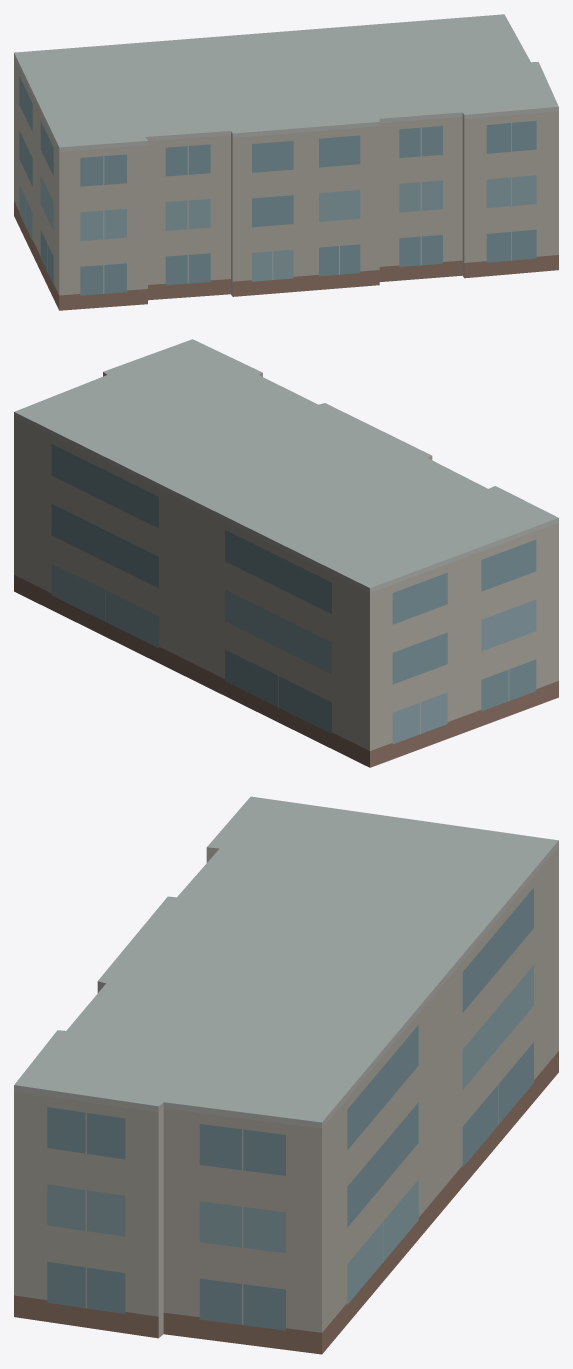
The model's file is survey-upis-32668369.glb.
3 views of the same model, one above another, from view 1: azimuth 30°, elevation 25°; view 2: azimuth 150°, elevation 25°; view 3: azimuth 270°, elevation 25° (orthographic). The views are drawn at different scales.
Parts seen in each view (by area): view 1: survey-upis-32668369.tmp; view 2: survey-upis-32668369.tmp; view 3: survey-upis-32668369.tmp.
Part boxes in pixels (box(x1,y1,x2,y2)): survey-upis-32668369.tmp: box(14, 14, 558, 310); survey-upis-32668369.tmp: box(14, 339, 558, 767); survey-upis-32668369.tmp: box(14, 796, 558, 1354).
Bounding box in the file's own units: 27.58 × 9.15 × 19.48.
